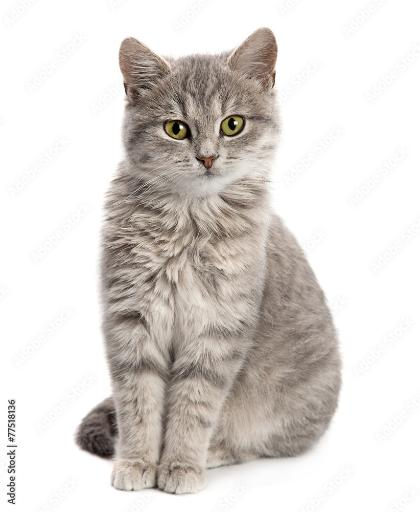cat_sitting: (77, 28, 341, 493)
